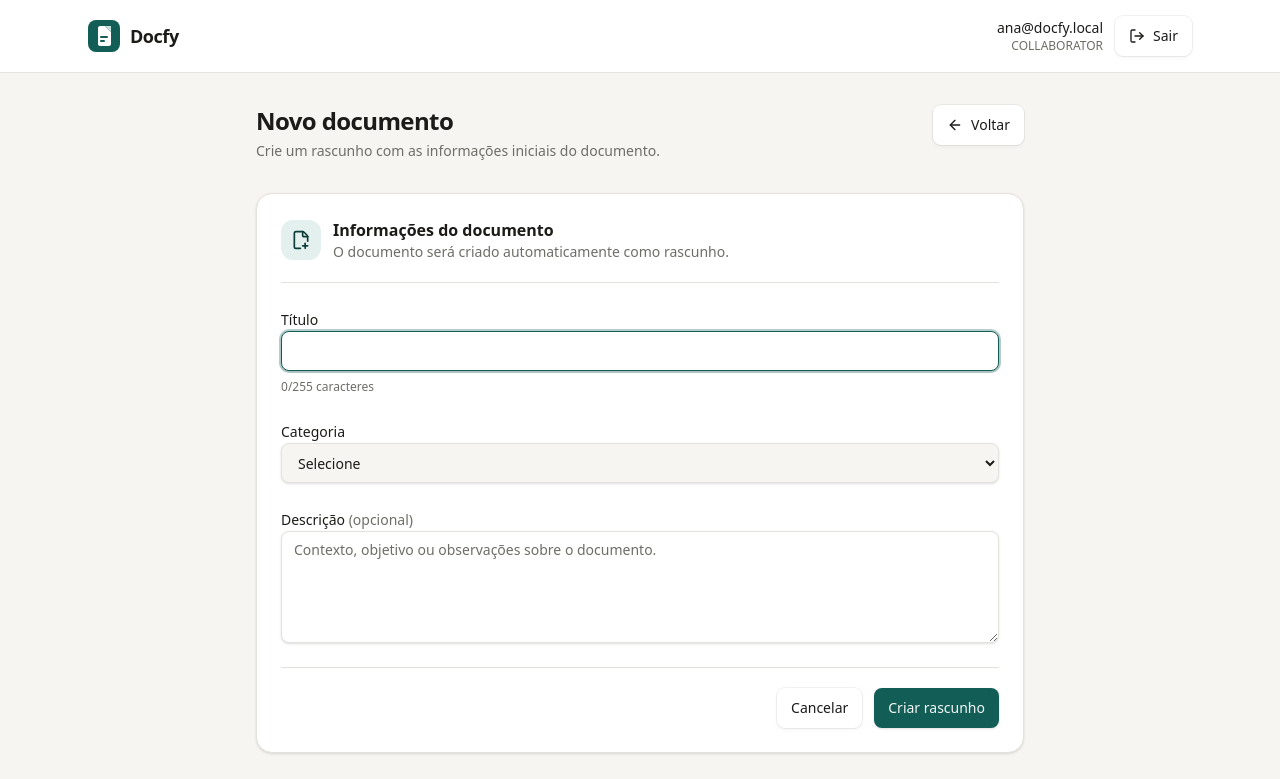
Test: CreateDocumentPage › shows a structured validation error with correlation ID
The image size is (1280, 779).
Type "Policy" into the field labelled "Título" at {"x": 640, "y": 351}, box x1=281 y1=331 x2=999 y2=371
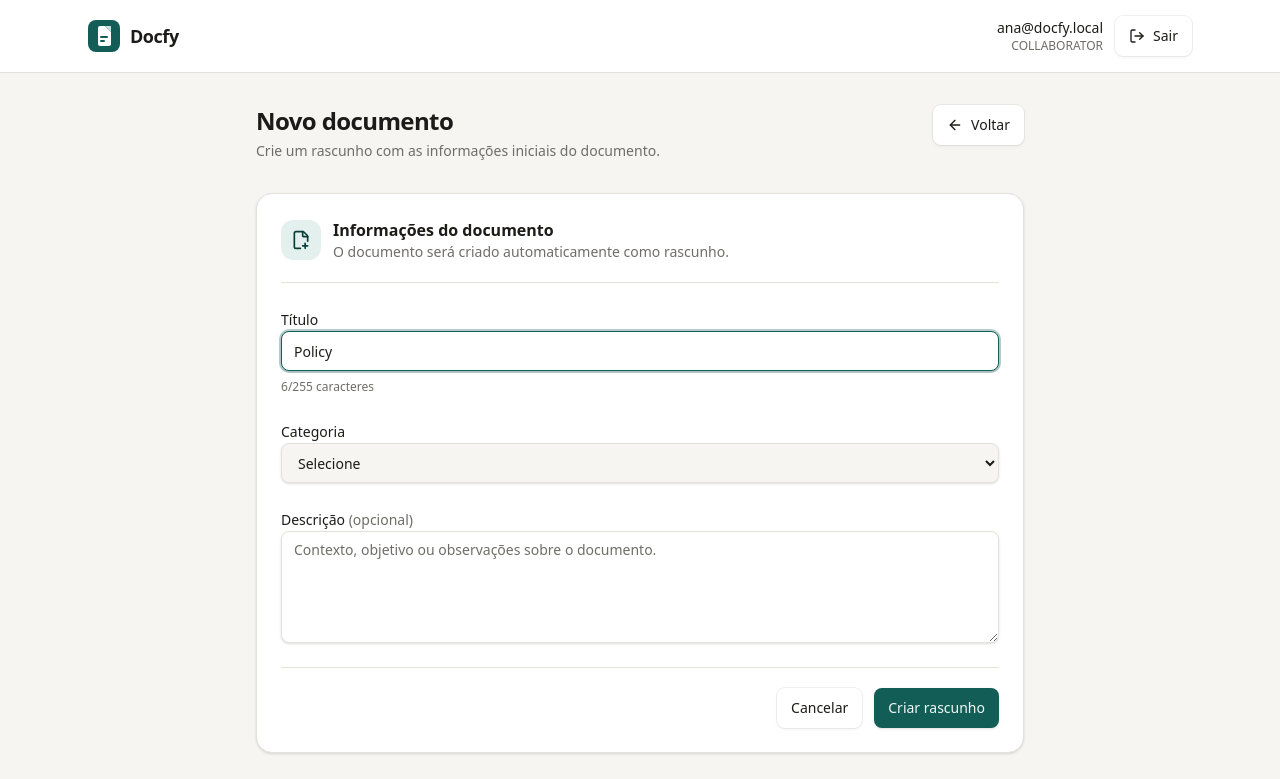
Select "Contract" in the dropdown labelled "Categoria" at {"x": 640, "y": 463}, box x1=281 y1=443 x2=999 y2=483
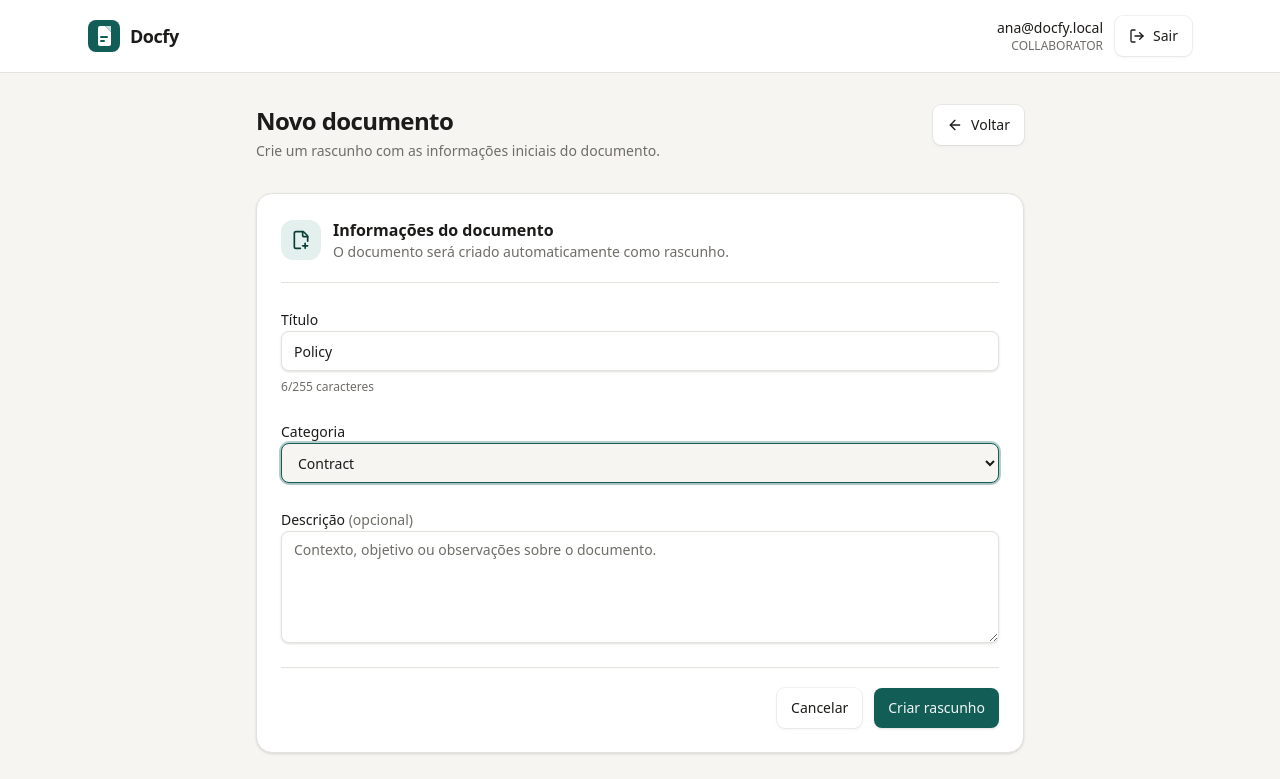
Click the button "Criar rascunho" at {"x": 937, "y": 708}, box x1=874 y1=688 x2=999 y2=728
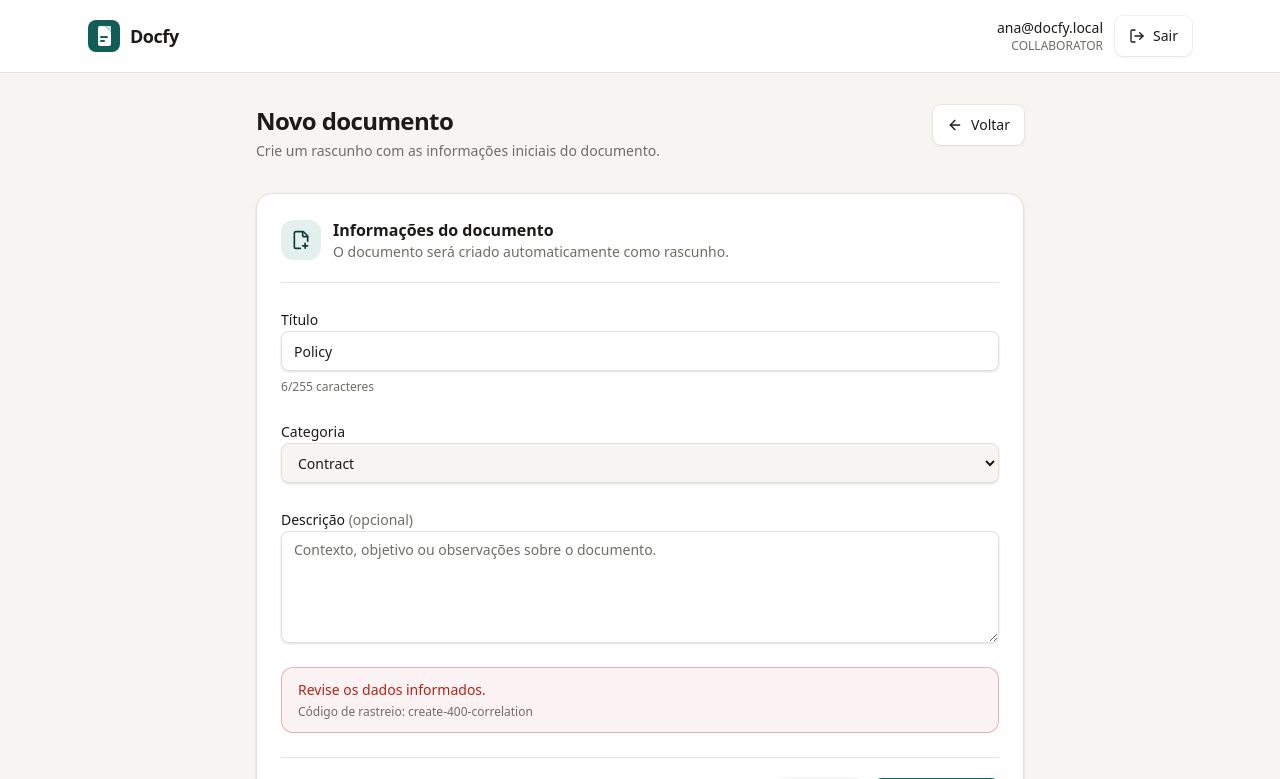
expect the text "Revise os dados informados." is shown: met, box x1=298 y1=680 x2=486 y2=699
expect the text "Código de rastreio: create-400-correlation" is shown: met, box x1=298 y1=703 x2=533 y2=720
